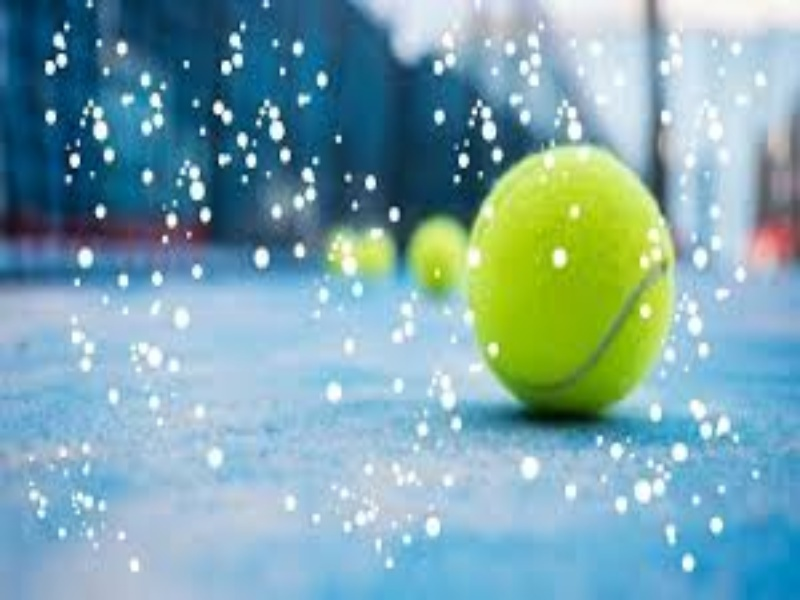tennis ball: (463, 141, 681, 431), (398, 203, 477, 304)
